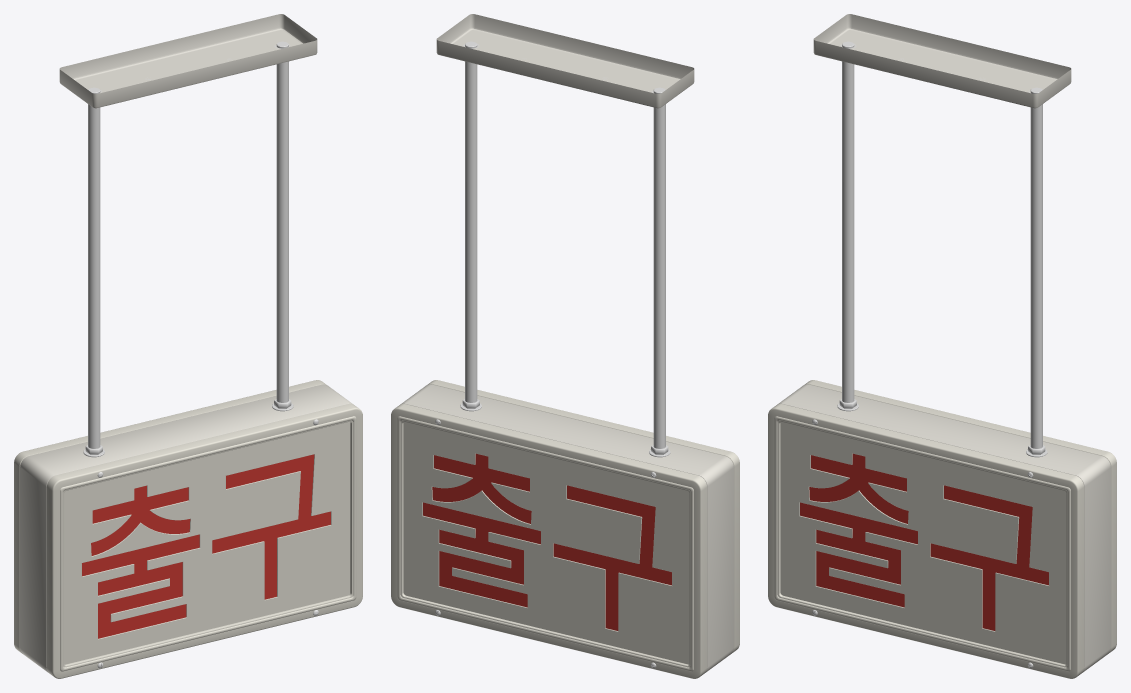
The model's file is Kit_ExitSign_Hanging.fbx.
3 renders of one model, left to right at view 1: azimuth 30°, elevation 25°; view 2: azimuth 150°, elevation 25°; view 3: azimuth 330°, elevation 25°, orthographic.
Parts seen in each view (by area): view 1: Kit_ExitSign_Hanging_LOD0; view 2: Kit_ExitSign_Hanging_LOD0; view 3: Kit_ExitSign_Hanging_LOD0.
Boxes of the visible parts, <box> form: Kit_ExitSign_Hanging_LOD0: <box>14,14,362,678</box>; Kit_ExitSign_Hanging_LOD0: <box>391,14,739,678</box>; Kit_ExitSign_Hanging_LOD0: <box>768,14,1116,678</box>.
Size of what is drawn, in the model's own units: 0.346 by 0.612 by 0.0789.
